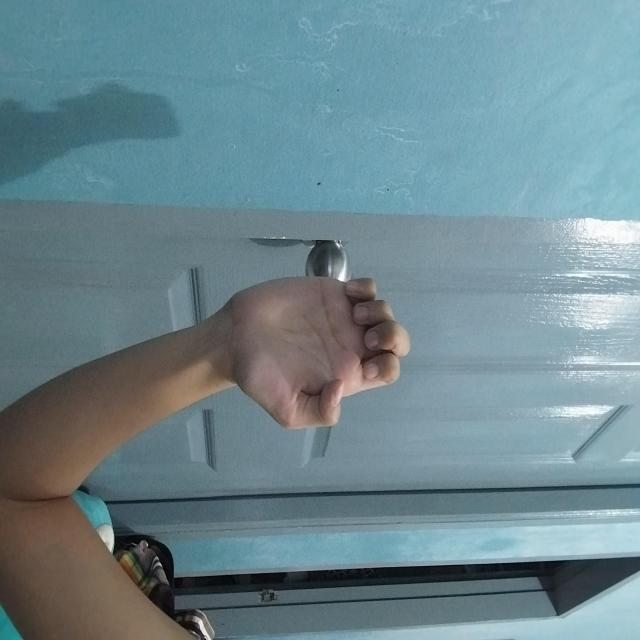E: (277, 230, 427, 412)
